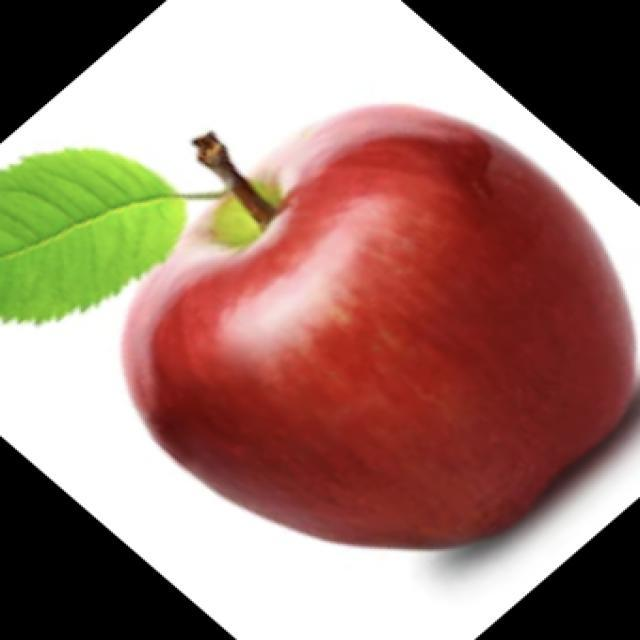Fresh Apple: (120, 94, 640, 552)
